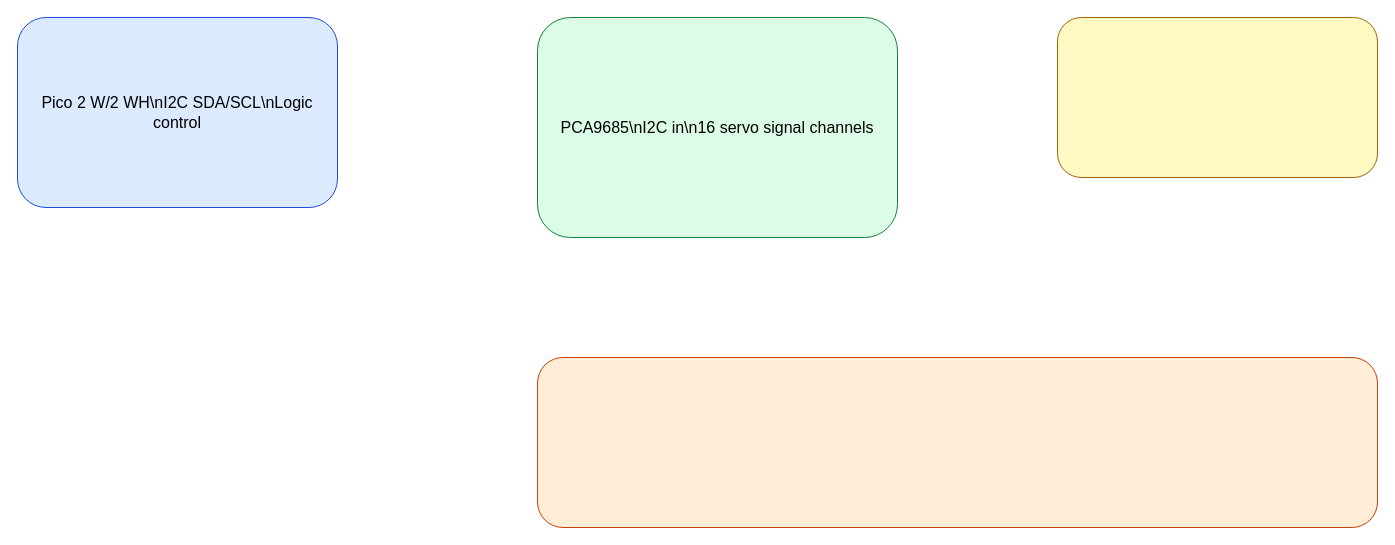
Image size: 1395x545. Some labels were removed from this diagram. Here are the shapes that lost their labels. From the top down, the centre of each, then its label:
the point at 1217,97: External 5V PSU\nPOWER 5V for servo
the point at 957,442: Servo bank\nCH0..CH15
